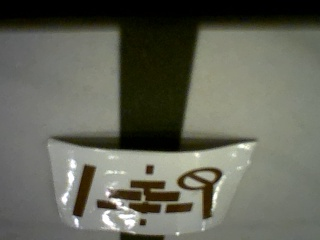Clearing_Zone: (72, 162, 220, 225)
